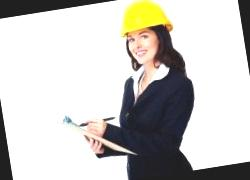helmet: (110, 0, 173, 39)
no_vest: (106, 58, 203, 178)
person: (90, 0, 204, 180)
